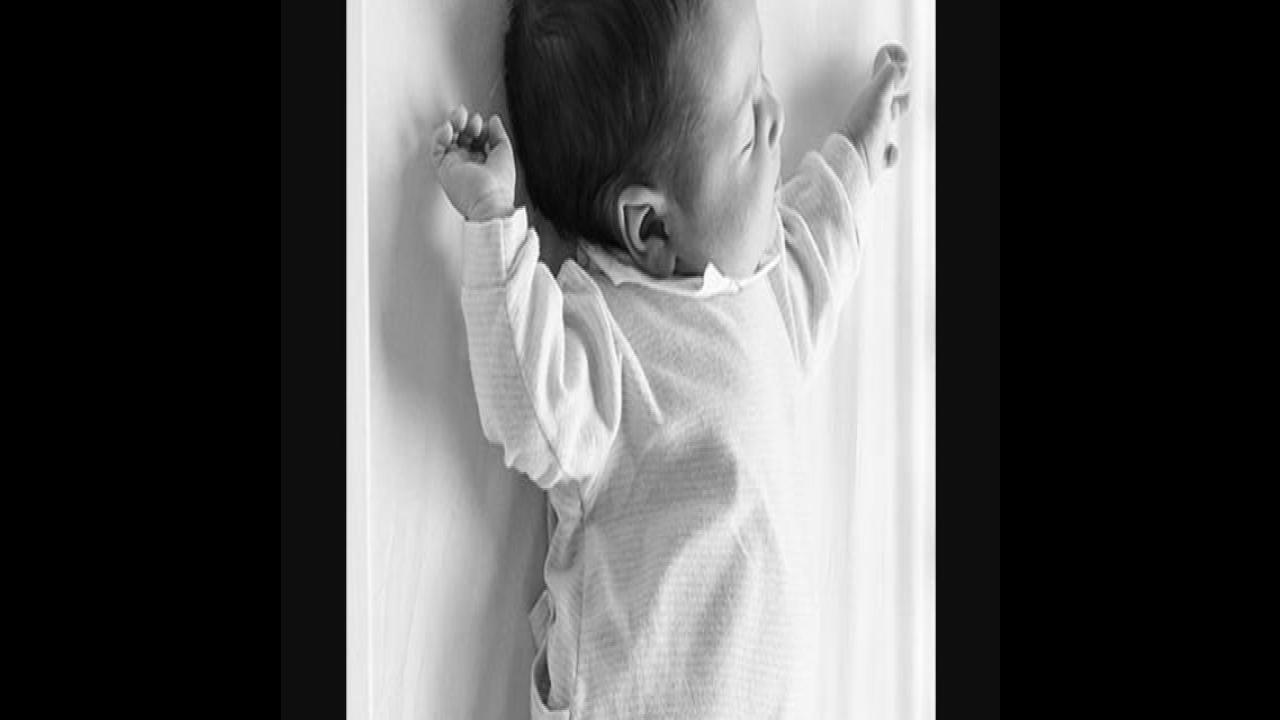hand: (426, 103, 518, 223), (854, 43, 916, 188)
